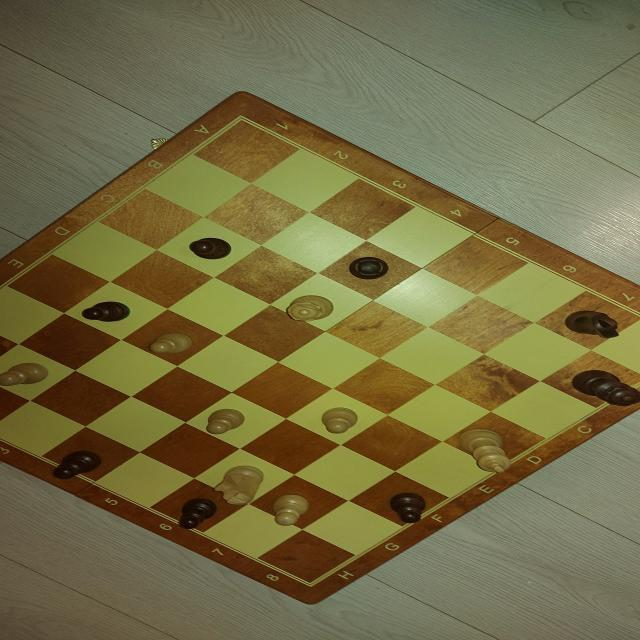chess-table-corners: (211, 106, 278, 140), (285, 565, 334, 593)
